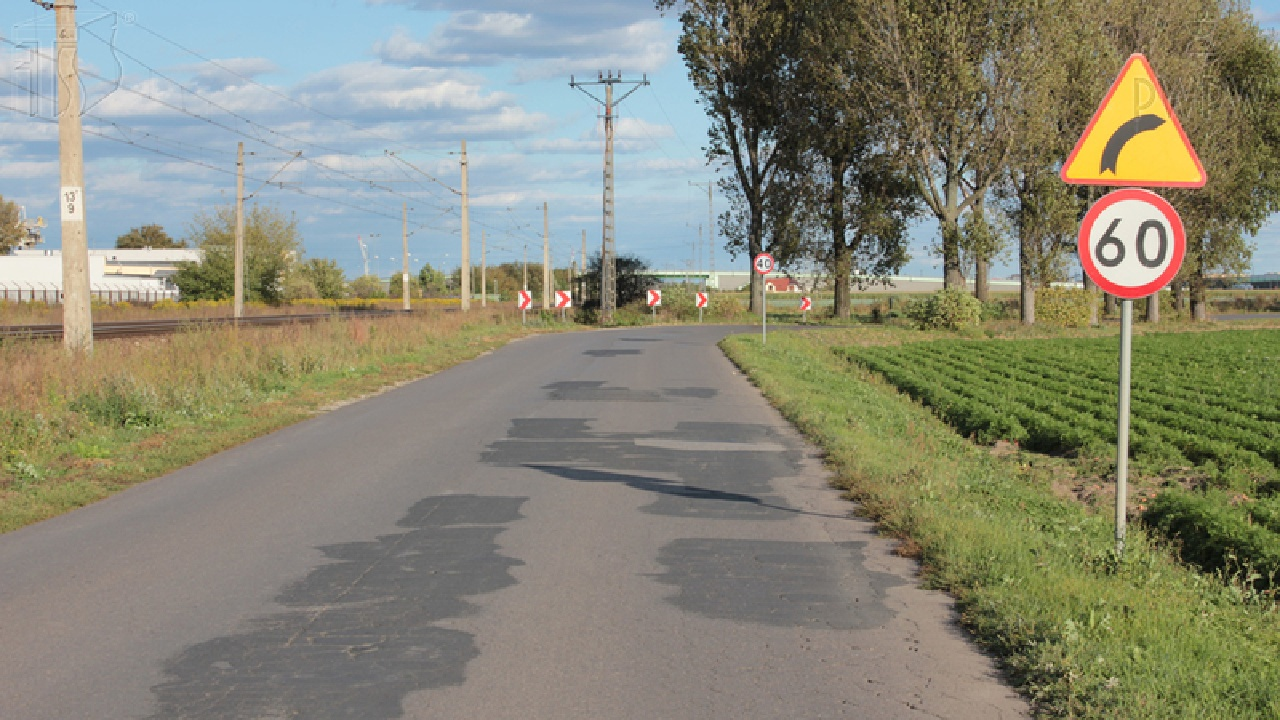A1: (1060, 52, 1206, 189)
B33_60: (1078, 190, 1186, 299)
